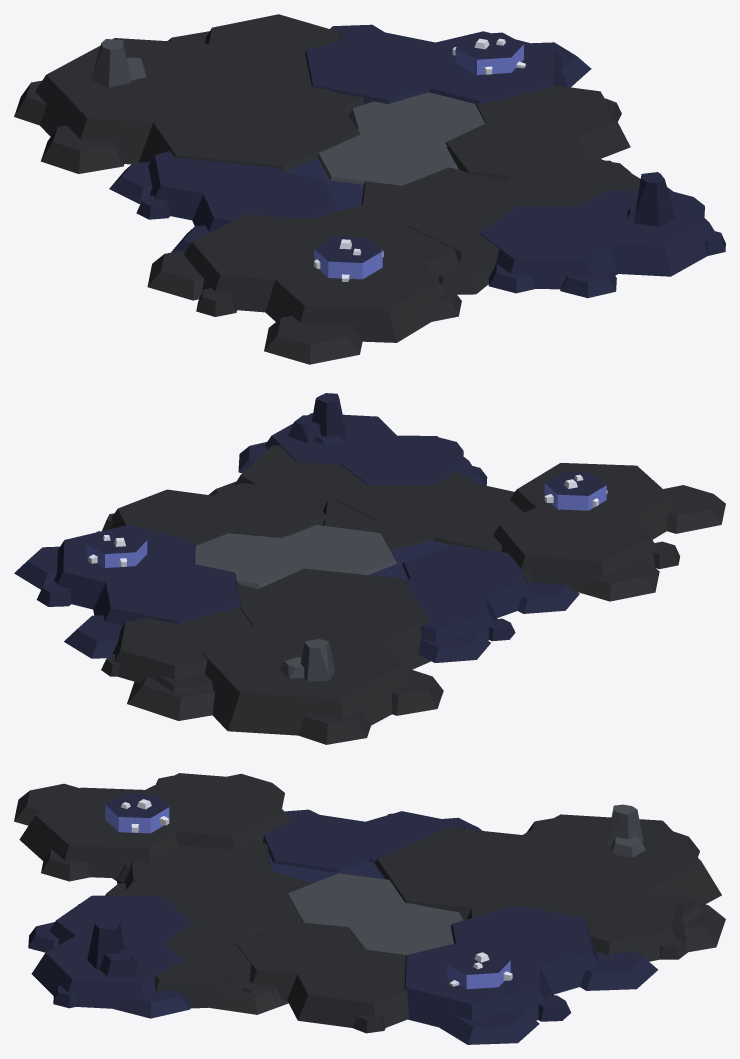
The model's file is ground_space.fbx.
3 renders of one model, top to bottom at view 1: azimuth 30°, elevation 25°; view 2: azimuth 150°, elevation 25°; view 3: azimuth 270°, elevation 25°, orthographic. The views are drawn at different scales.
Parts seen in each view (by area): view 1: rockFlatGrass.002, rockFlat.008, rockFlat.005, rockFlat.003, rockFlat.004, rockFlatGrass.003, rockFlat.009, rockFlat.007, rockFlat.002, rockFlat.006, rock_crystals, rock_crystals.001 (+3 smaller); view 2: rockFlatGrass.002, rockFlat.008, rockFlat.003, rockFlatGrass.003, rockFlat.004, rockFlat.005, rockFlat.009, rockFlat.007, rockFlat.006, rockFlat.002, rock_crystals, rockA.001 (+3 smaller); view 3: rockFlatGrass.002, rockFlat.003, rockFlat.008, rockFlat.004, rockFlat.005, rockFlat.007, rockFlat.009, rockFlatGrass.003, rockFlat.006, rockFlat.002, rock_crystals, rock_crystals.001 (+3 smaller).
Boxes of the visible parts, x1,y1,x2,y2 form: rockFlatGrass.002: (14,31,360,173); rockFlat.008: (147,214,461,364); rockFlat.005: (479,190,725,298); rockFlat.003: (305,24,591,104); rockFlat.004: (445,85,630,182); rockFlatGrass.003: (109,151,337,252); rockFlat.009: (317,92,484,185); rockFlat.007: (406,160,640,282); rockFlat.002: (310,167,504,294); rockFlat.006: (181,14,363,114); rock_crystals: (314,236,383,281); rock_crystals.001: (452,32,525,74); rockFlatGrass.002: (127,568,443,744); rockFlat.008: (493,463,725,601); rockFlat.003: (14,524,240,658); rockFlatGrass.003: (402,544,579,662); rockFlat.004: (102,483,326,545); rockFlat.005: (238,413,487,485); rockFlat.009: (195,525,396,588); rockFlat.007: (209,445,478,519); rockFlat.006: (101,584,257,692); rockFlat.002: (322,485,523,551); rock_crystals: (544,472,607,510); rockA.001: (288,393,346,445); rockFlatGrass.002: (374,814,725,952); rockFlat.003: (404,905,657,1044); rockFlat.008: (14,773,292,882); rockFlat.004: (235,921,408,1033); rockFlat.005: (28,895,193,1018); rockFlat.007: (116,876,288,1014); rockFlat.009: (288,873,463,954); rockFlatGrass.003: (262,809,482,872); rockFlat.006: (467,891,701,961); rockFlat.002: (105,840,313,934); rock_crystals: (105,793,169,833); rock_crystals.001: (446,949,512,989).
Size of the model in its own units: 5620 by 708 by 6572.
